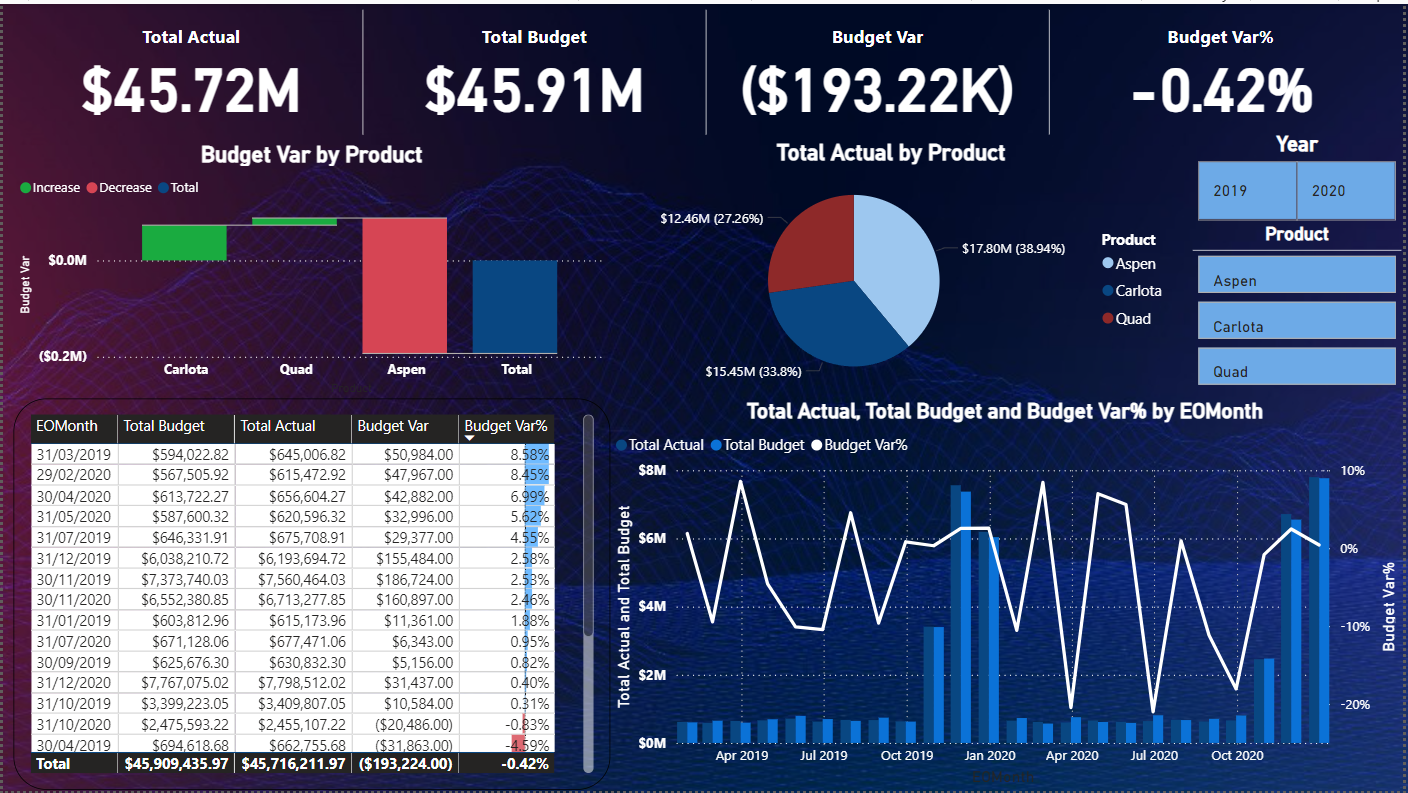

Layout of this report page (visuals, bound fields, positions):
{"tool":"powerbi","page":{"name":"Page 1","canvas":[1280,720],"ordinal":0},"visuals":[{"type":"cardVisual","fields":{"Data":["Main Metrics.Total Actual","Main Metrics.Total Budget","Main Metrics.Budget Var","Main Metrics.Budget Var%"]},"box":[9.1,0,1270.4,124.3],"z":0},{"type":"advancedSlicerVisual","fields":{"Values":["dCalendar.Year"]},"box":[1088.3,116.9,191.2,86.5],"z":1000},{"type":"advancedSlicerVisual","fields":{"Values":["dProduct.Product"]},"box":[1088.3,200.3,191.2,154.8],"z":2000},{"type":"tableEx","fields":{"Values":["dCalendar.EOMonth.Variation.Date Hierarchy.Year","Main Metrics.Total Budget","Main Metrics.Total Actual","Main Metrics.Budget Var","Main Metrics.Budget Var%"]},"box":[9.1,360.8,545.8,357.8],"z":3000},{"type":"lineClusteredColumnComboChart","fields":{"Category":["dCalendar.EOMonth.Variation.Date Hierarchy.Month"],"Y":["Main Metrics.Total Actual","Main Metrics.Total Budget"],"Y2":["Main Metrics.Budget Var%"]},"box":[554.9,360.8,724.6,357.8],"z":4000},{"type":"waterfallChart","fields":{"Category":["dProduct.Product"],"Y":["Main Metrics.Budget Var"]},"box":[9.1,124.3,545.8,236.5],"z":5000},{"type":"pieChart","fields":{"Y":["Main Metrics.Total Actual"],"Category":["dProduct.Product"]},"box":[546.4,122.9,532.7,235.3],"z":6000}]}

Visuals, with their boxes in screenshot pixels (x1, y1, x2, y2), scaled from the page's 1280x720 canvas onto the 1408x793 screenshot:
cardVisual - Main Metrics.Total Actual x Main Metrics.Total Budget: <region>10, 0, 1407, 137</region>
advancedSlicerVisual - dCalendar.Year: <region>1197, 129, 1407, 224</region>
advancedSlicerVisual - dProduct.Product: <region>1197, 221, 1407, 391</region>
tableEx - dCalendar.EOMonth.Variation.Date Hierarchy.Year x Main Metrics.Total Budget: <region>10, 397, 610, 791</region>
lineClusteredColumnComboChart - dCalendar.EOMonth.Variation.Date Hierarchy.Month x Main Metrics.Total Actual: <region>610, 397, 1407, 791</region>
waterfallChart - dProduct.Product x Main Metrics.Budget Var: <region>10, 137, 610, 397</region>
pieChart - Main Metrics.Total Actual x dProduct.Product: <region>601, 135, 1187, 395</region>
